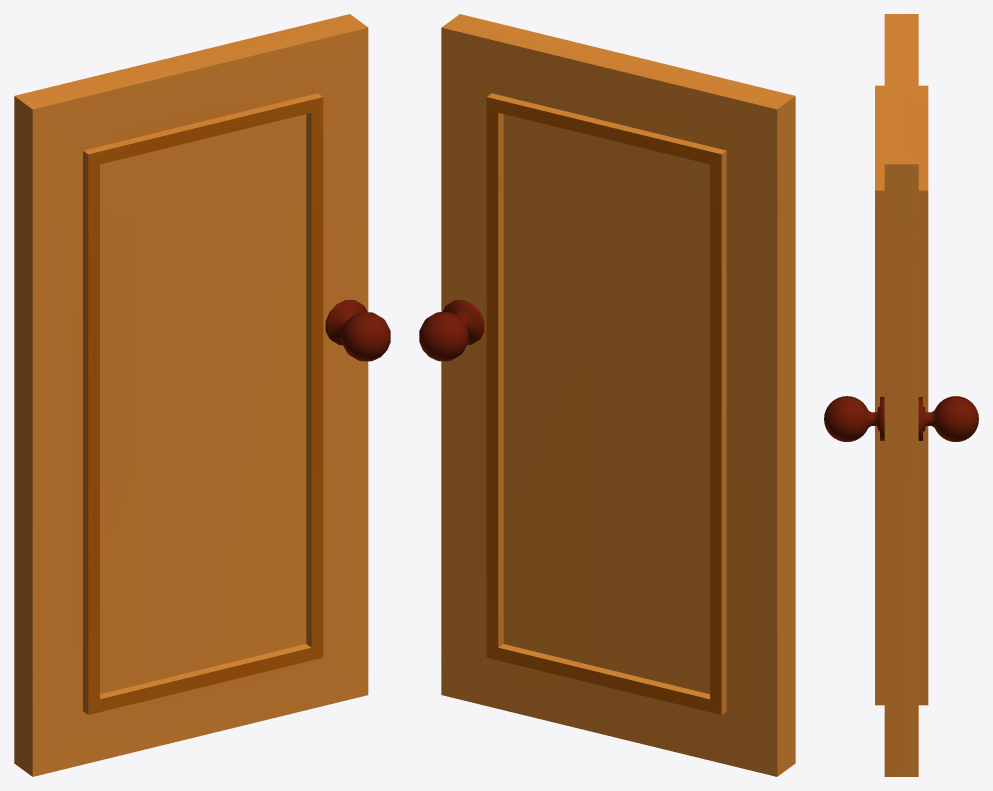
File: Door.fbx
3 views of the same model, side by side, from view 1: azimuth 30°, elevation 25°; view 2: azimuth 150°, elevation 25°; view 3: azimuth 270°, elevation 25° (orthographic). The views are drawn at different scales.
Visible parts, largest first — view 1: Door; view 2: Door; view 3: Door.
Part boxes in pixels (x1,y1,x2,y2): Door: (14, 14, 390, 776); Door: (419, 14, 795, 776); Door: (824, 14, 978, 776).
Size of the model in its own units: 46.89 by 89.08 by 20.42.
